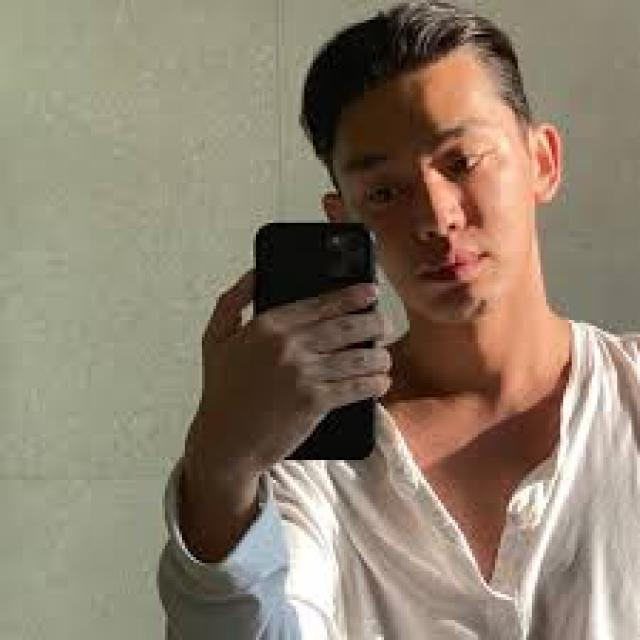Phone: (251, 219, 381, 463)
